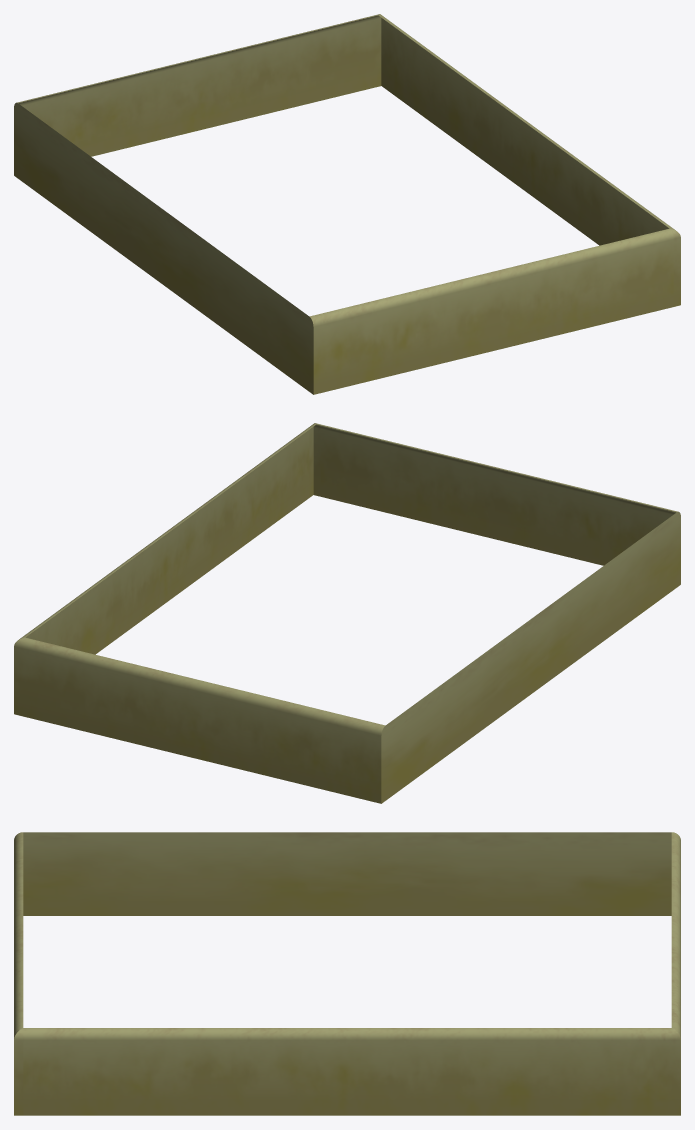
Rendered from WallFatCutColliderSmall.fbx.
The picture shows the model from 3 angles, top to bottom: view 1: azimuth 30°, elevation 25°; view 2: azimuth 150°, elevation 25°; view 3: azimuth 270°, elevation 25°; orthographic projection. The views are drawn at different scales.
Parts seen in each view (by area): view 1: WallFatCutColliderSmall; view 2: WallFatCutColliderSmall; view 3: WallFatCutColliderSmall.
Boxes of the visible parts, box(x1,y1,x2,y2) form: WallFatCutColliderSmall: box(14, 14, 680, 394); WallFatCutColliderSmall: box(14, 423, 680, 803); WallFatCutColliderSmall: box(14, 832, 680, 1115).
Bounding box in the file's own units: 128 × 25 × 180.
